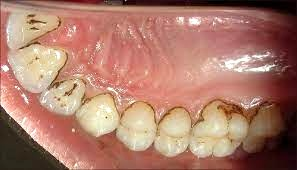Tooth Discoloration: (14, 7, 275, 137)
